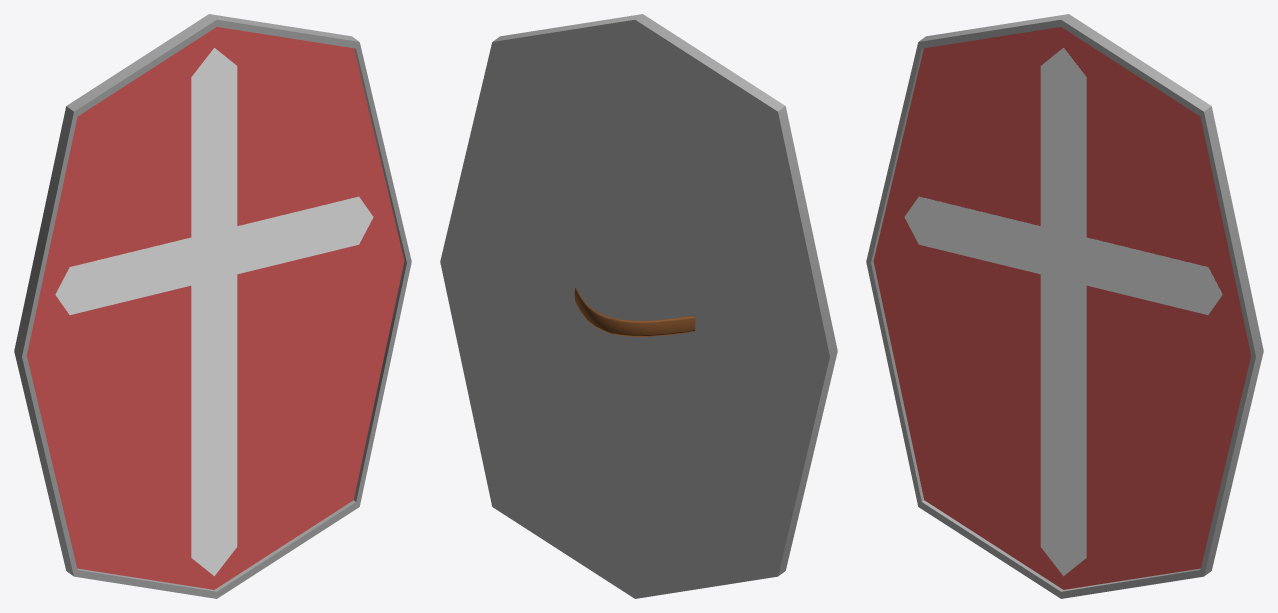
Rendered from shield.fbx.
3 views of the same model, side by side, from view 1: azimuth 30°, elevation 25°; view 2: azimuth 150°, elevation 25°; view 3: azimuth 330°, elevation 25° (orthographic).
Visible parts, largest first — view 1: Shield; view 2: Shield; view 3: Shield.
Boxes of the visible parts, x1,y1,x2,y2 form: Shield: (14,14,411,598); Shield: (440,14,837,598); Shield: (866,14,1263,598).
Size of the model in its own units: 4.58 by 6.51 by 0.6376.
